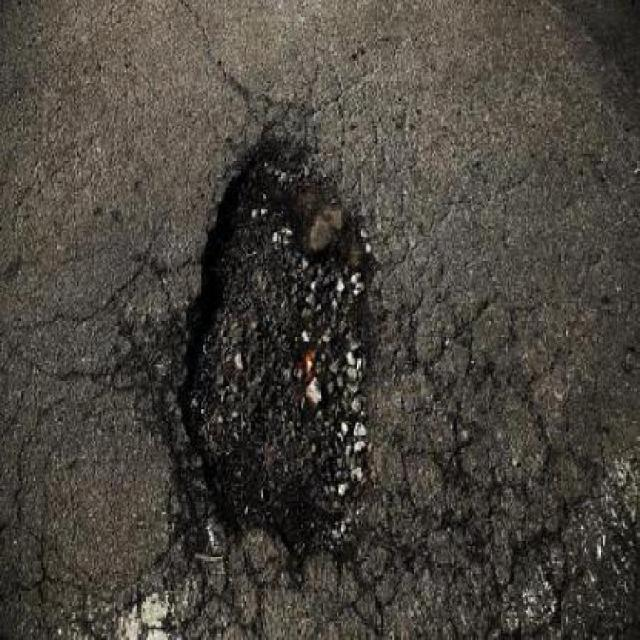Buraco: (149, 126, 408, 595)
